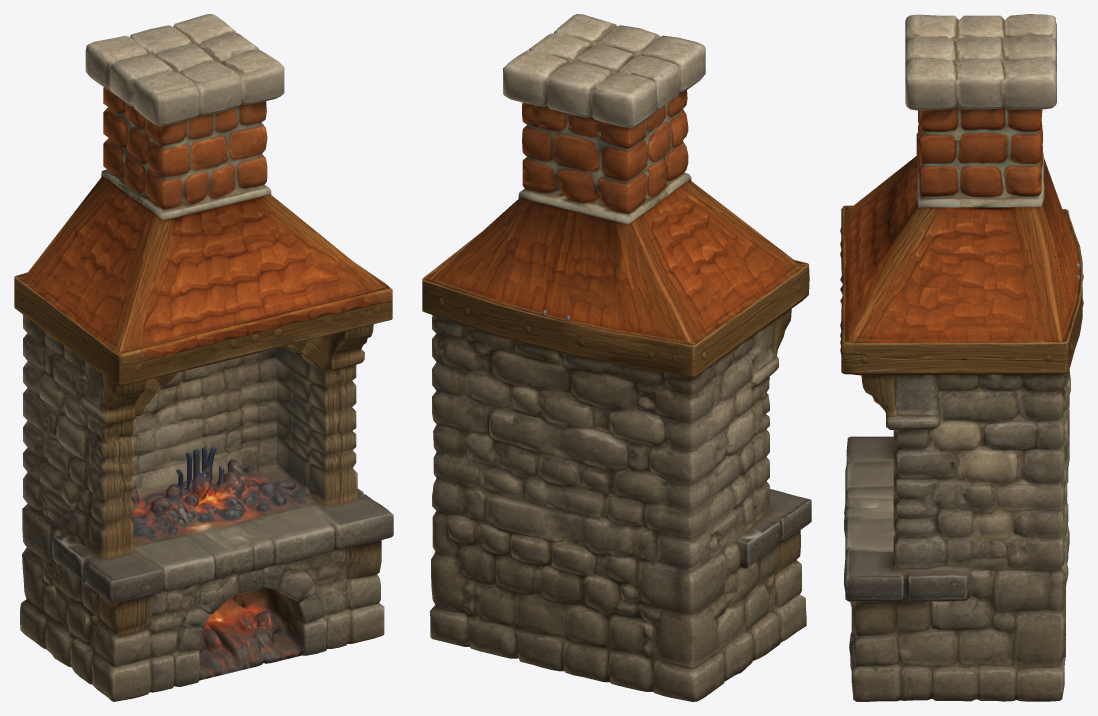
File: cluster of three small smooth grey pebb… #141.glb
The picture shows the model from 3 angles, left to right: view 1: azimuth 30°, elevation 25°; view 2: azimuth 150°, elevation 25°; view 3: azimuth 270°, elevation 25°; orthographic projection. The views are drawn at different scales.
Parts seen in each view (by area): view 1: tripo_node_b6798417-3e93-485d-a49d-b1bc2fbcd1a1; view 2: tripo_node_b6798417-3e93-485d-a49d-b1bc2fbcd1a1; view 3: tripo_node_b6798417-3e93-485d-a49d-b1bc2fbcd1a1.
Part boxes in pixels (x1=…): tripo_node_b6798417-3e93-485d-a49d-b1bc2fbcd1a1: x1=14, y1=14, x2=393, y2=701; tripo_node_b6798417-3e93-485d-a49d-b1bc2fbcd1a1: x1=422, y1=14, x2=811, y2=701; tripo_node_b6798417-3e93-485d-a49d-b1bc2fbcd1a1: x1=840, y1=14, x2=1083, y2=701.
Size of the model in its own units: 0.5039 by 0.9791 by 0.366.
Materials: 1 (1 with a texture image).
